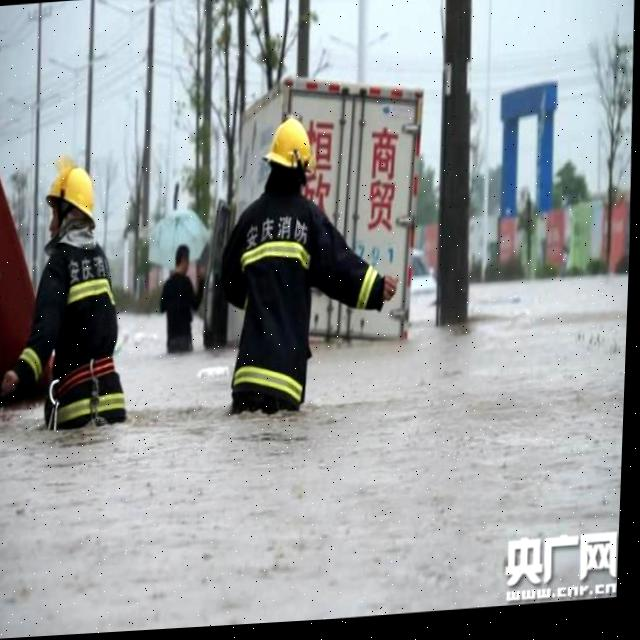civilian: (156, 234, 211, 371)
rescuer: (204, 104, 406, 426), (0, 145, 150, 456)
